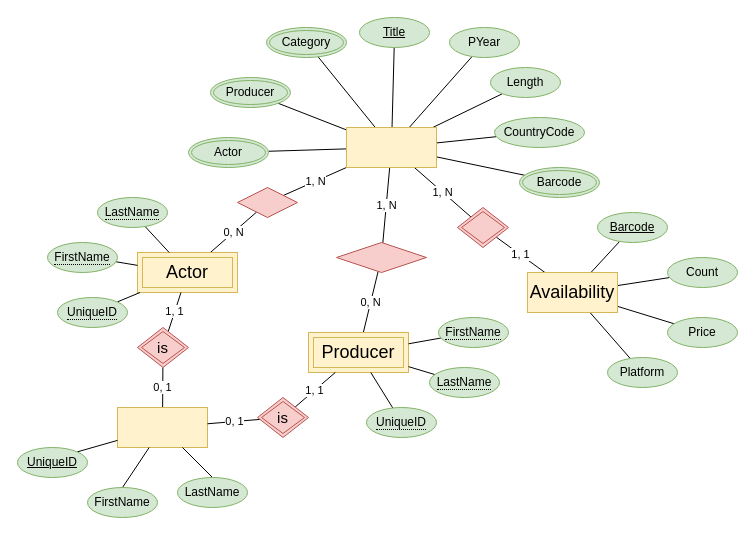
This 755x535 diagram has some shape labels left out. The shapes that lost their labels are listed below. From the top down, each one's box as (x1, y1, x2, y2) in pixels, then its label:
(346, 126, 436, 168): Movie
(236, 186, 298, 218): acted
(456, 206, 508, 248): has
(336, 242, 426, 272): produced
(116, 406, 208, 448): Person
